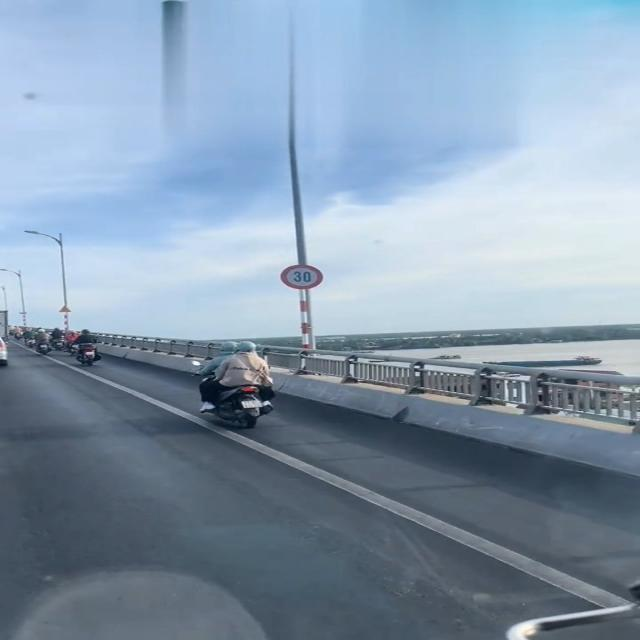127-toc-do-toi-da-30: (280, 264, 323, 290)
